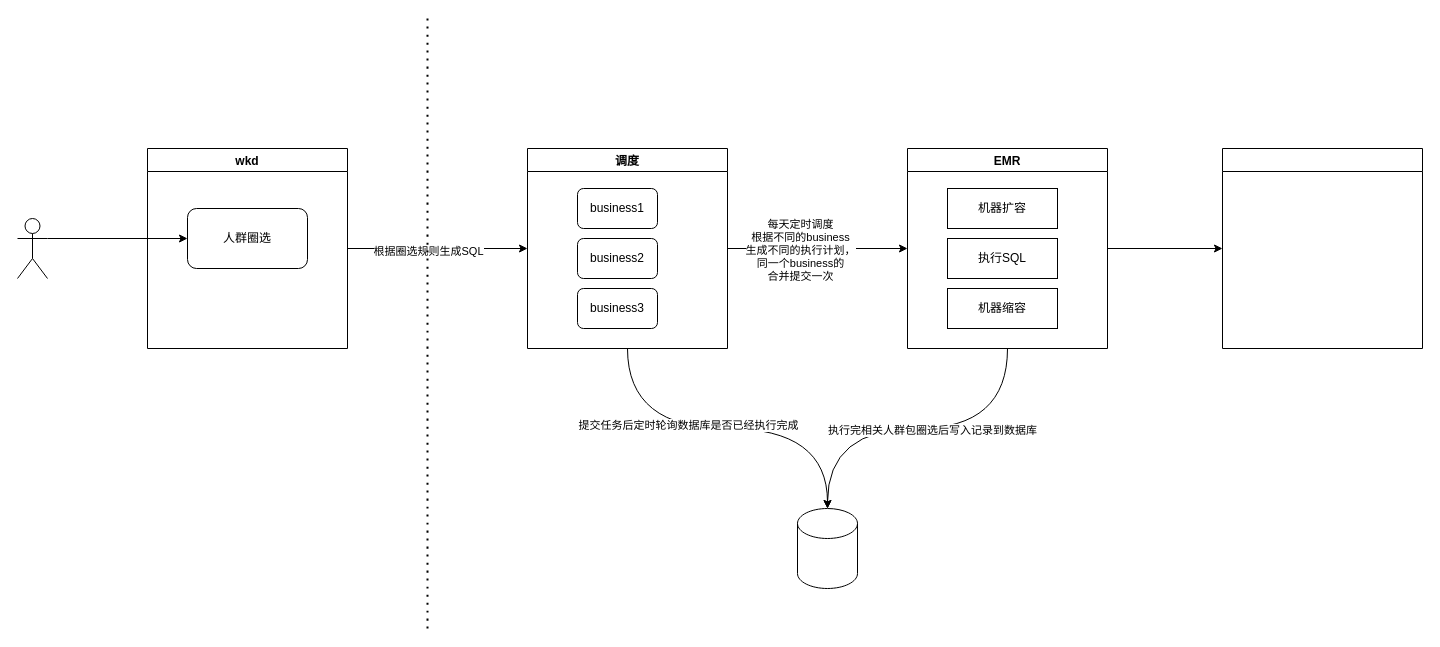
Image size: 1440x647. Some labels were removed from this diagram. Here are the shapes that lost their labels. From the top down, the centre of each, then its label:
At (x=32, y=248): "Actor".
At (x=1322, y=248): "dcache".
